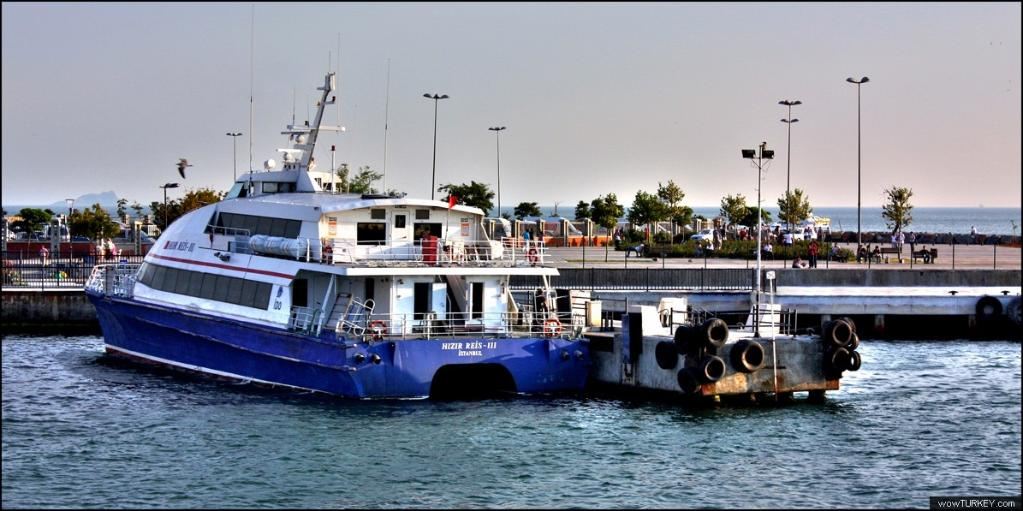PassengerShip: (75, 58, 604, 408)
